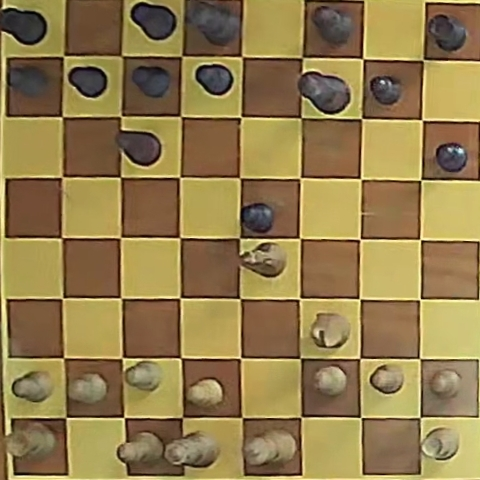black-bishop: (130, 2, 177, 41), (311, 6, 352, 46)
black-king: (299, 72, 350, 113)
black-knight: (115, 131, 161, 166)
black-pawn: (8, 65, 50, 98), (131, 65, 171, 98), (69, 66, 108, 99), (195, 64, 232, 95), (241, 202, 274, 232), (370, 75, 402, 105), (436, 143, 467, 172)
black-queen: (187, 1, 240, 46)
black-rook: (0, 7, 47, 46), (427, 13, 467, 52)
white-bishop: (116, 431, 164, 464)
white-king: (244, 429, 297, 466)
white-knight: (240, 242, 286, 277), (310, 313, 349, 348)
white-pawn: (12, 370, 53, 402), (68, 373, 108, 404), (125, 361, 161, 391), (186, 378, 222, 408), (314, 365, 348, 396), (370, 364, 405, 394), (429, 368, 462, 398)
white-queen: (164, 431, 220, 466)
white-rook: (5, 421, 57, 461), (422, 428, 459, 460)
